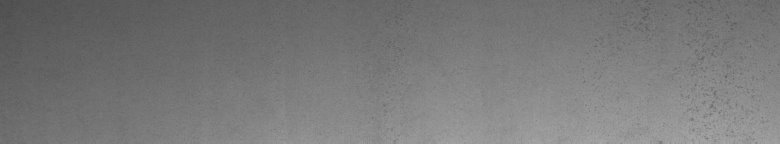ib: (641, 4, 737, 123)
